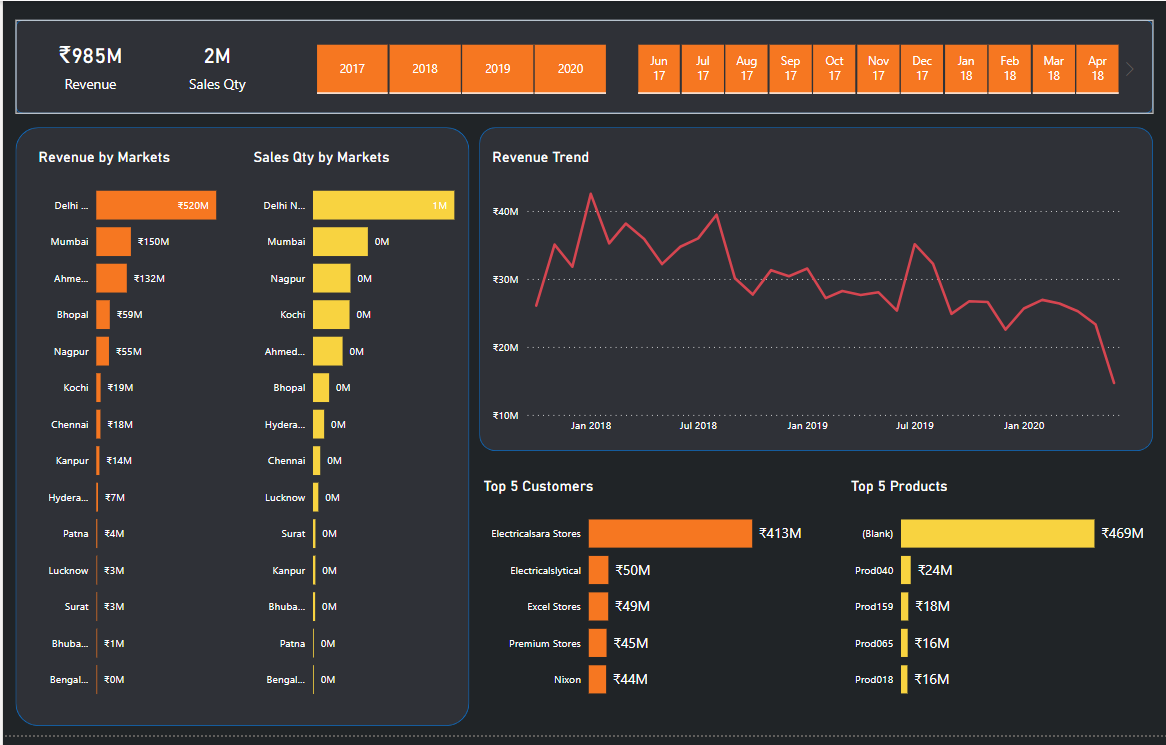

The dashboard page shown, as its layout file describes it:
{"tool":"powerbi","page":{"name":"Key Insights","canvas":[1350,850],"ordinal":0},"visuals":[{"type":"shape","box":[551.4,146.2,780.1,374.8],"z":0},{"type":"shape","box":[14.5,146.2,525.4,693.2],"z":1000},{"type":"shape","box":[14.5,21.7,1317,108.5],"z":2000},{"type":"card","fields":{"Values":["BaseMeasures (2).Revenue"]},"box":[36.2,33.3,130.3,81],"z":3000},{"type":"card","fields":{"Values":["BaseMeasures (2).Sales Qty"]},"box":[189.6,33.3,117.2,81],"z":4000},{"type":"barChart","title":"Revenue by Markets","fields":{"Y":["BaseMeasures (2).Revenue"],"Category":["sales markets.markets_name"]},"box":[36.2,170.8,237.4,654.2],"z":5000},{"type":"barChart","title":"Sales Qty by Markets","fields":{"Y":["BaseMeasures (2).Sales Qty"],"Category":["sales markets.markets_name"]},"box":[285.1,170.8,244.6,654.2],"z":6000},{"type":"slicer","fields":{"Values":["sales date.year"]},"box":[337.2,43.4,385,70.9],"z":7000},{"type":"slicer","fields":{"Values":["sales date.cy_date"]},"box":[709.2,43.4,606.4,70.9],"z":8000},{"type":"barChart","title":"Top 5 Customers","fields":{"Y":["BaseMeasures (2).Revenue"],"Category":["sales customers.custmer_name"]},"box":[551.4,551.4,406.7,273.5],"z":9000},{"type":"barChart","title":"Top 5 Products","fields":{"Y":["BaseMeasures (2).Revenue"],"Category":["sales products.product_code"]},"box":[976.9,551.4,354.6,273.5],"z":10000},{"type":"lineChart","title":"Revenue Trend","fields":{"Y":["BaseMeasures (2).Revenue"],"Category":["sales date.cy_date"]},"box":[561.5,170.8,754,338.7],"z":11000}]}

Visuals, with their boxes in screenshot pixels (x1, y1, x2, y2), scaled from the page's 1350x850 canvas onto the 1166x745 screenshot:
shape: BBox(476, 128, 1150, 457)
shape: BBox(13, 128, 466, 736)
shape: BBox(13, 19, 1150, 114)
card - BaseMeasures (2).Revenue: BBox(31, 29, 144, 100)
card - BaseMeasures (2).Sales Qty: BBox(164, 29, 265, 100)
"Revenue by Markets" barChart: BBox(31, 150, 236, 723)
"Sales Qty by Markets" barChart: BBox(246, 150, 458, 723)
slicer - sales date.year: BBox(291, 38, 624, 100)
slicer - sales date.cy_date: BBox(613, 38, 1136, 100)
"Top 5 Customers" barChart: BBox(476, 483, 828, 723)
"Top 5 Products" barChart: BBox(844, 483, 1150, 723)
"Revenue Trend" lineChart: BBox(485, 150, 1136, 447)
